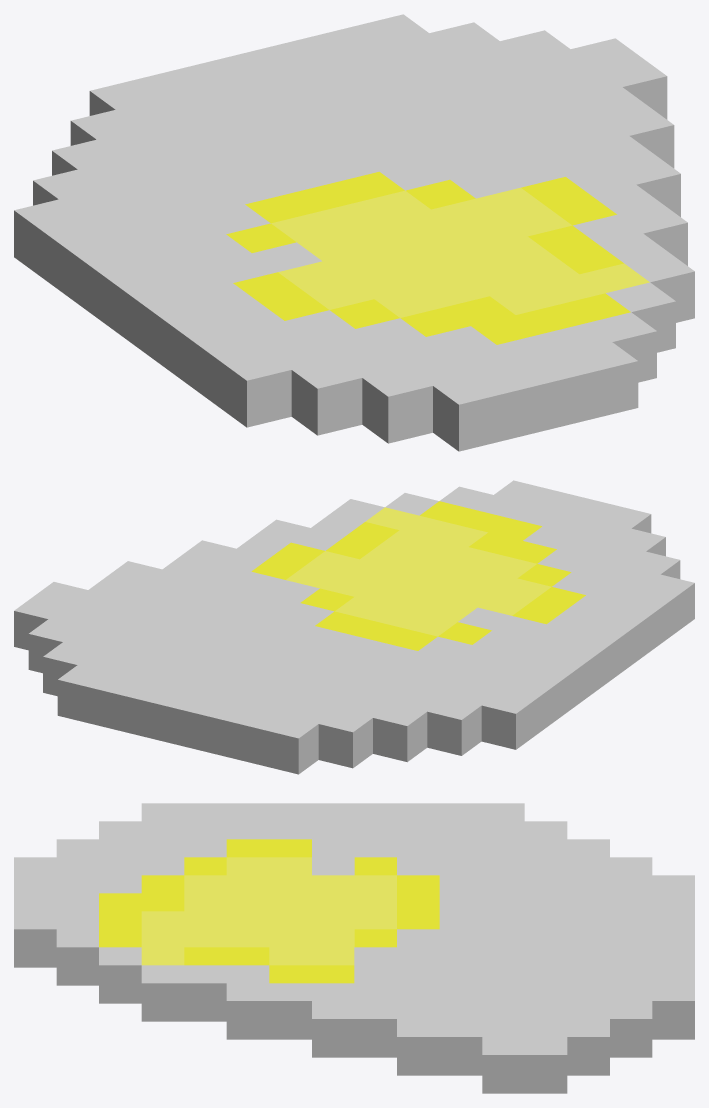
File: character_egg1.obj
The picture shows the model from 3 angles, top to bottom: view 1: azimuth 30°, elevation 25°; view 2: azimuth 150°, elevation 25°; view 3: azimuth 270°, elevation 25°; orthographic projection. The views are drawn at different scales.
Size of the model in its own units: 14 by 1 by 16.
Materials: 1 (1 with a texture image).
